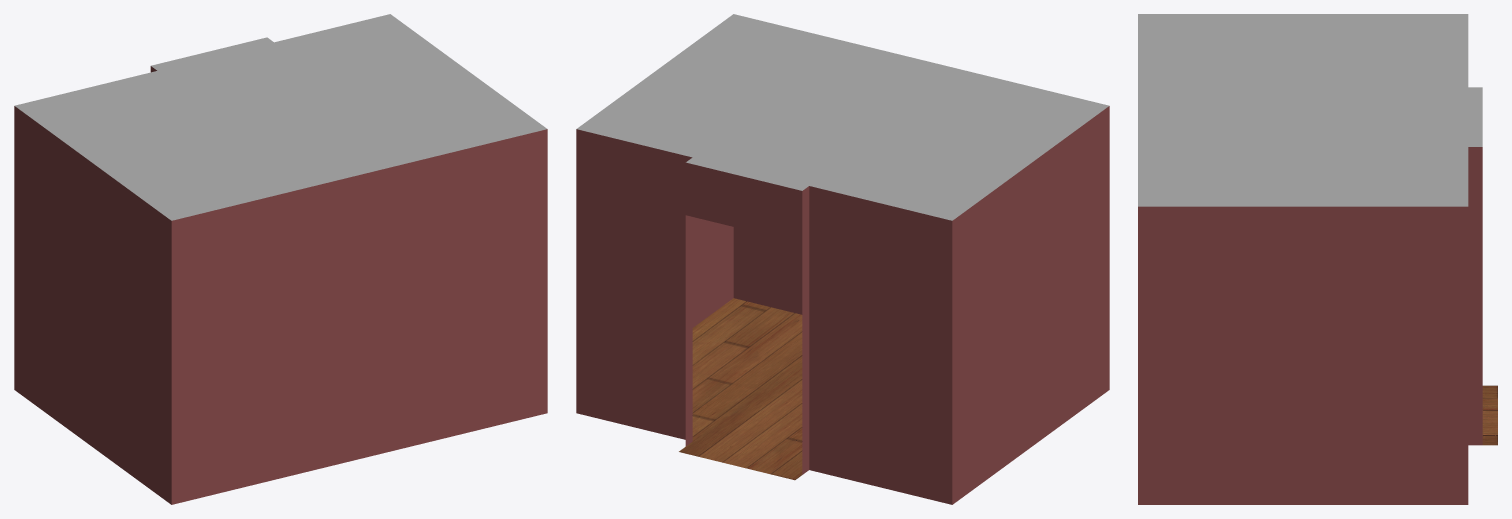
File: Extented_room.fbx
3 views of the same model, side by side, from view 1: azimuth 30°, elevation 25°; view 2: azimuth 150°, elevation 25°; view 3: azimuth 270°, elevation 25° (orthographic). The views are drawn at different scales.
Parts seen in each view (by area): view 1: Extanded_room; view 2: Extanded_room; view 3: Extanded_room.
Boxes of the visible parts, box(x1,y1,x2,y2) form: Extanded_room: box(14, 14, 547, 504); Extanded_room: box(576, 14, 1109, 504); Extanded_room: box(1138, 14, 1497, 504).
Size of the model in its own units: 325 by 234 by 256.
